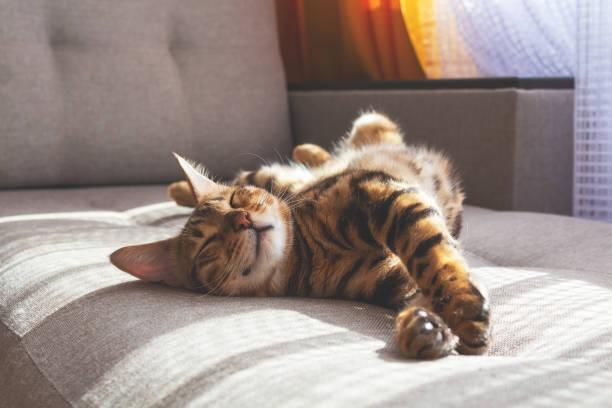kedo: (109, 112, 493, 360)
